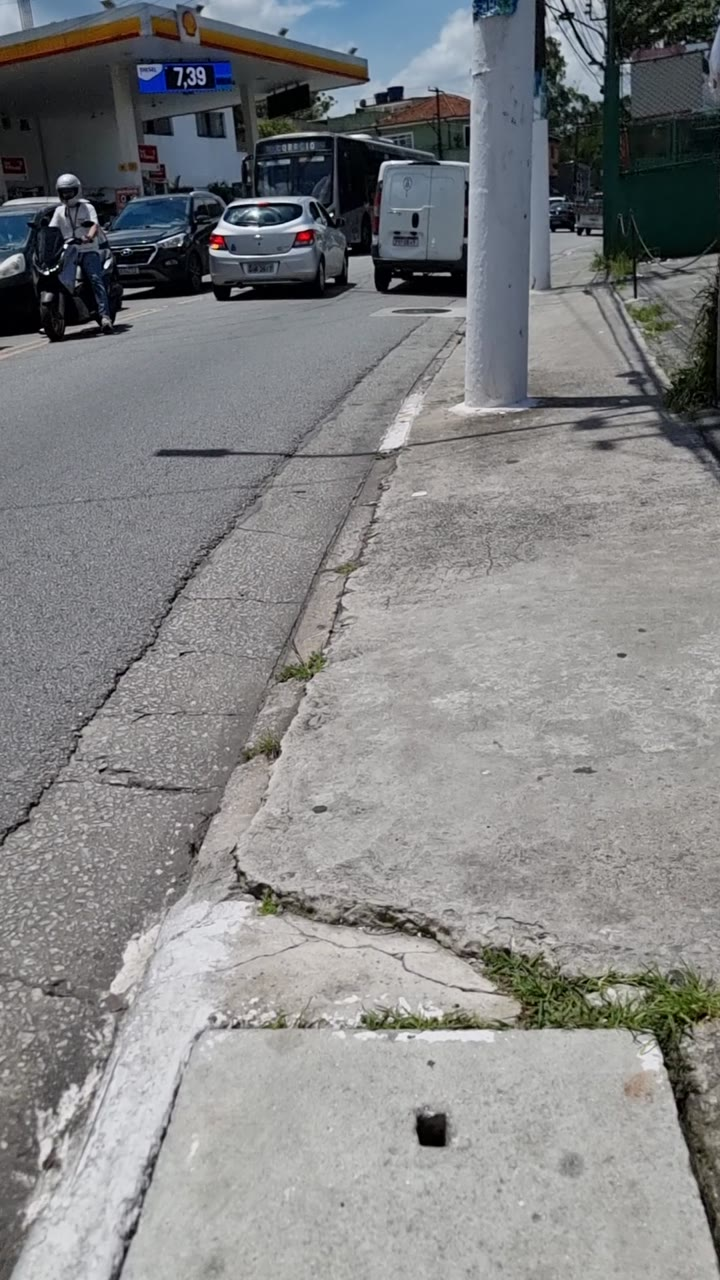desnivel: (111, 1030, 720, 1280)
obstaculo: (461, 0, 562, 422)
